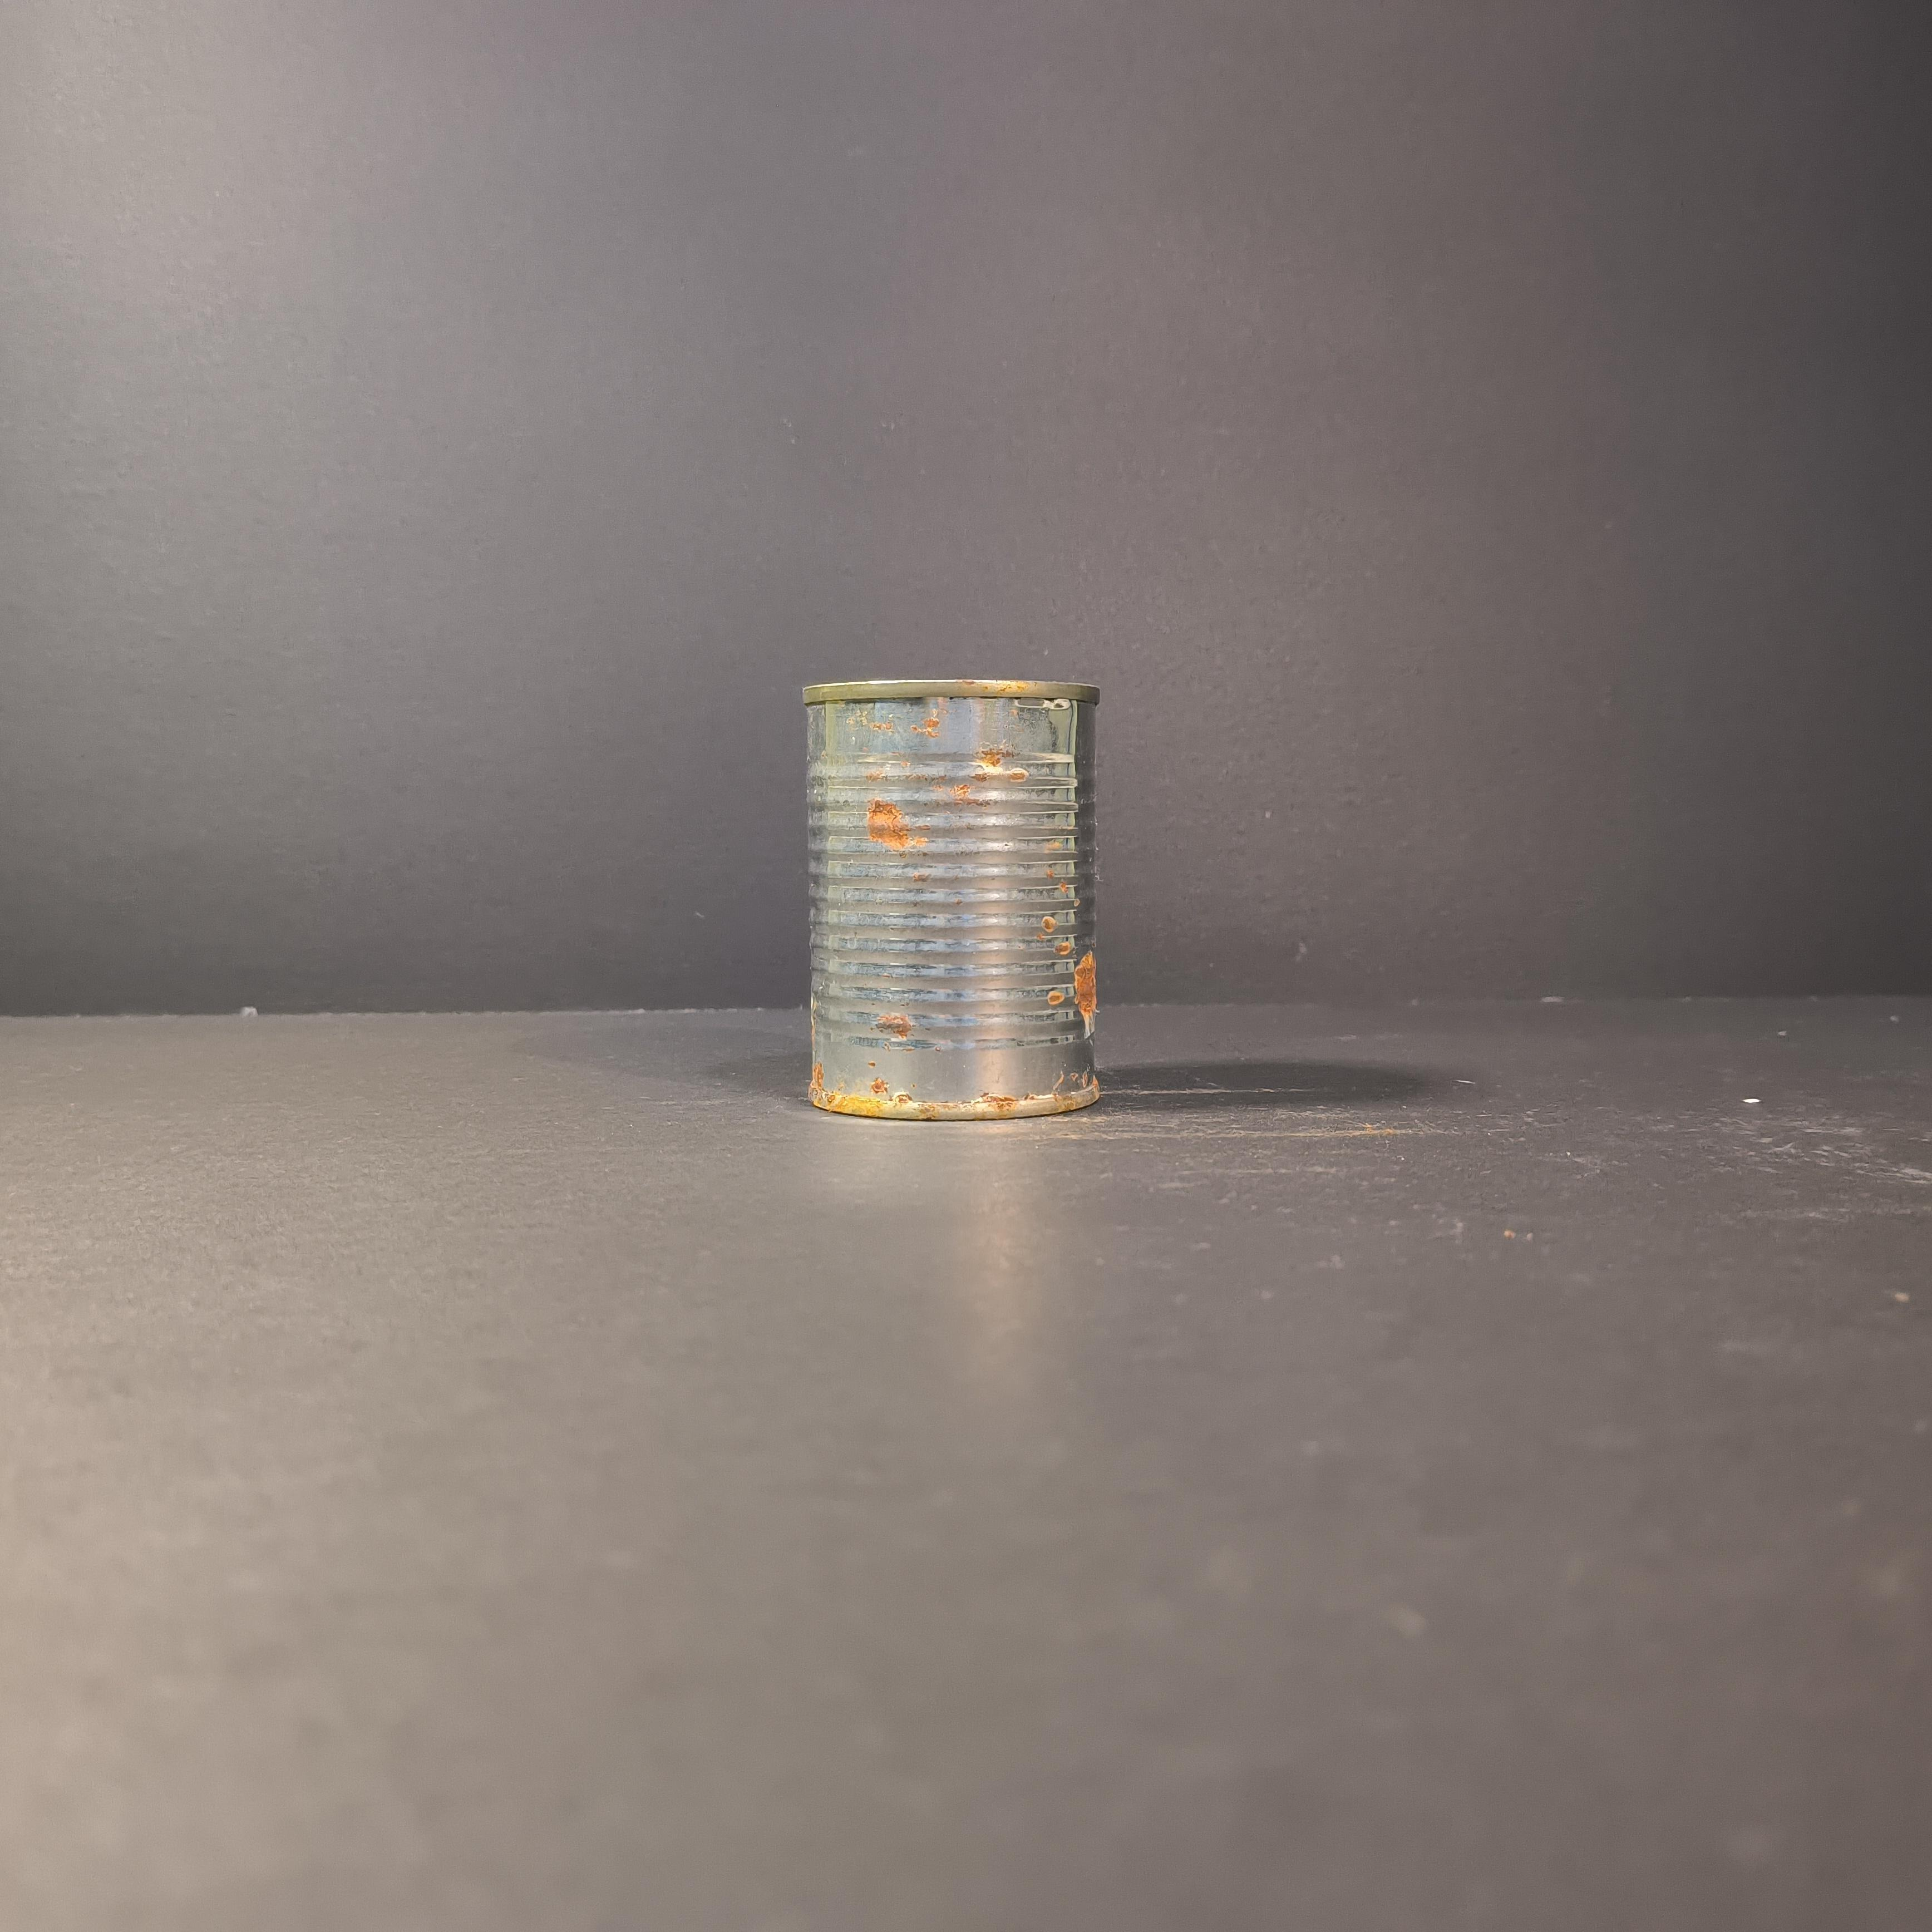Rusted: (787, 651, 1113, 1141)
